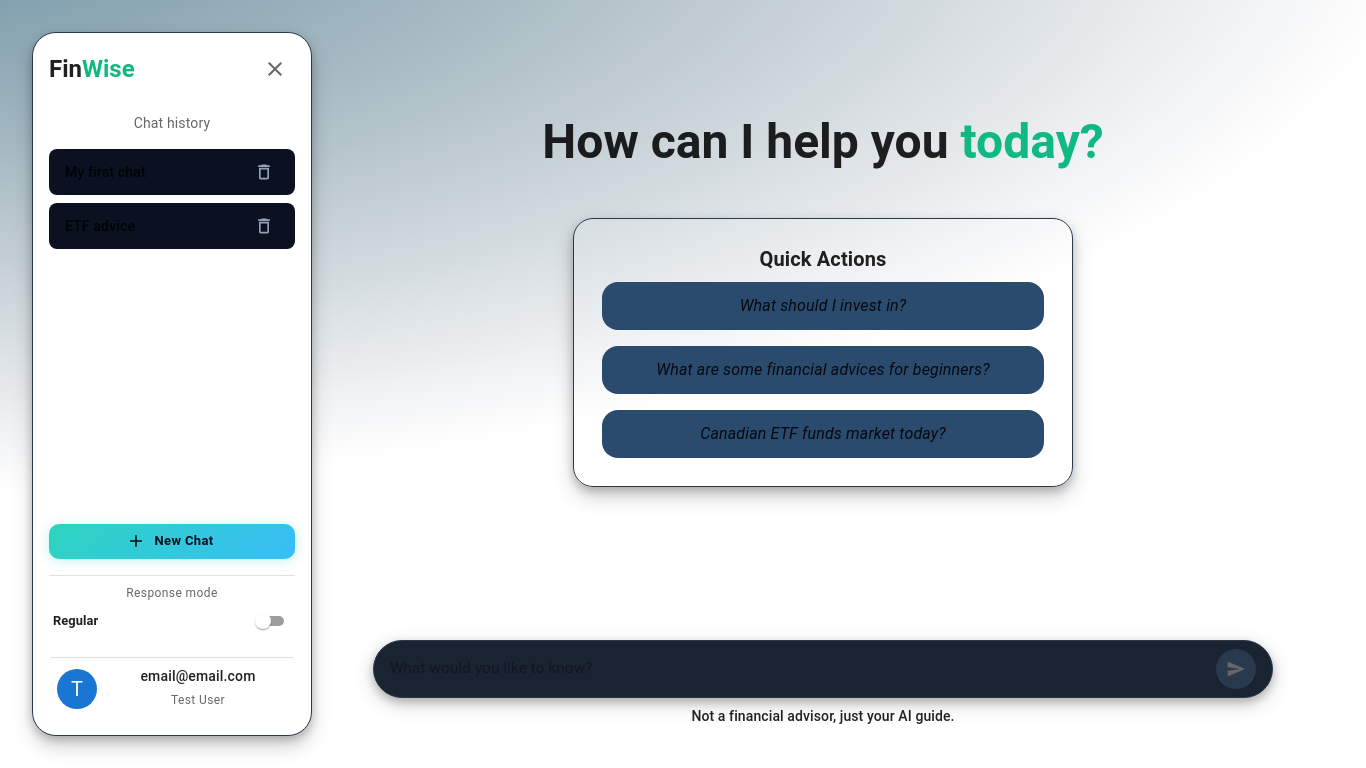
Scenario: Chat Flow Integration › deletes a chat session from the sidebar and removes it from history
Expected: the text "ETF advice" is shown, [65,218,135,234]
Click the button named "delete session etf advice" at (264, 226), box [249,211,279,241]
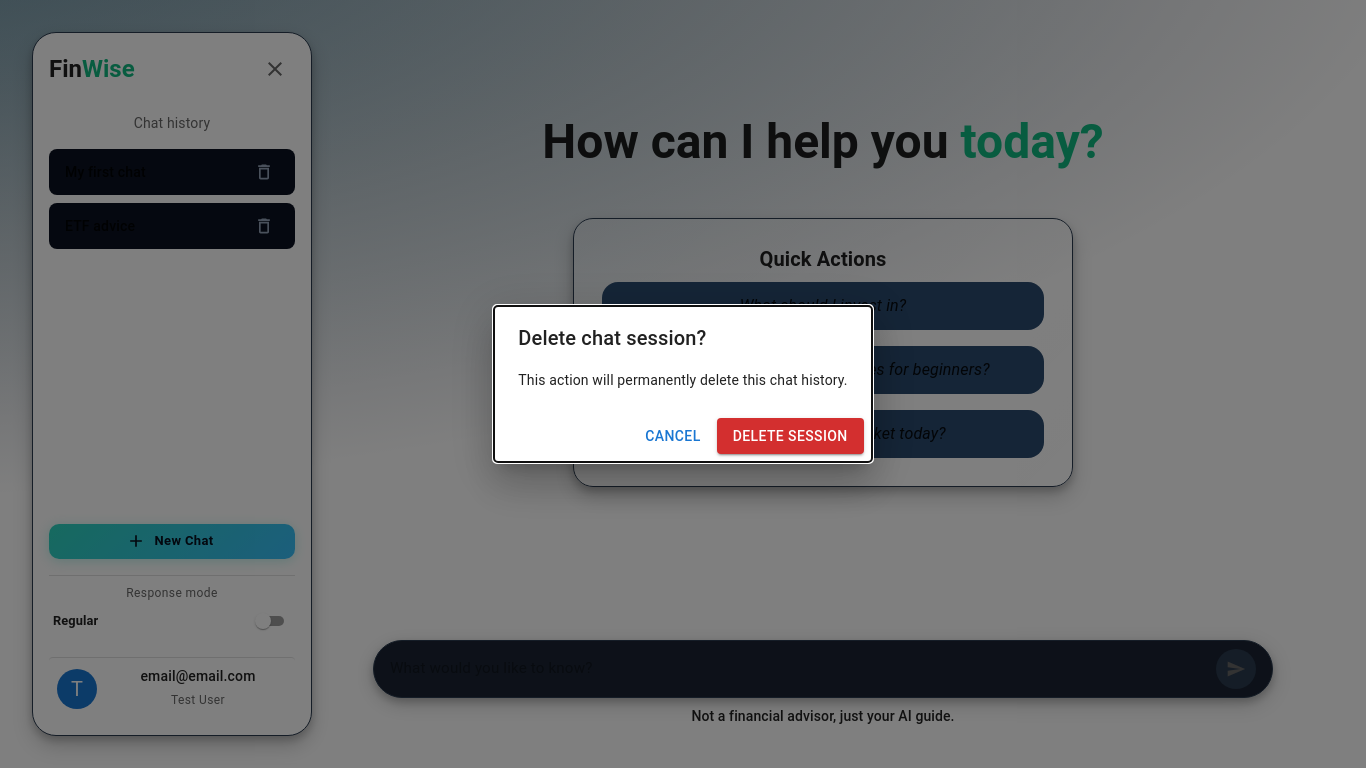
Expected: the heading "Delete chat session?" is shown, [518,326,706,350]
Click the button "Delete Session" at (790, 436), box [717,418,864,454]
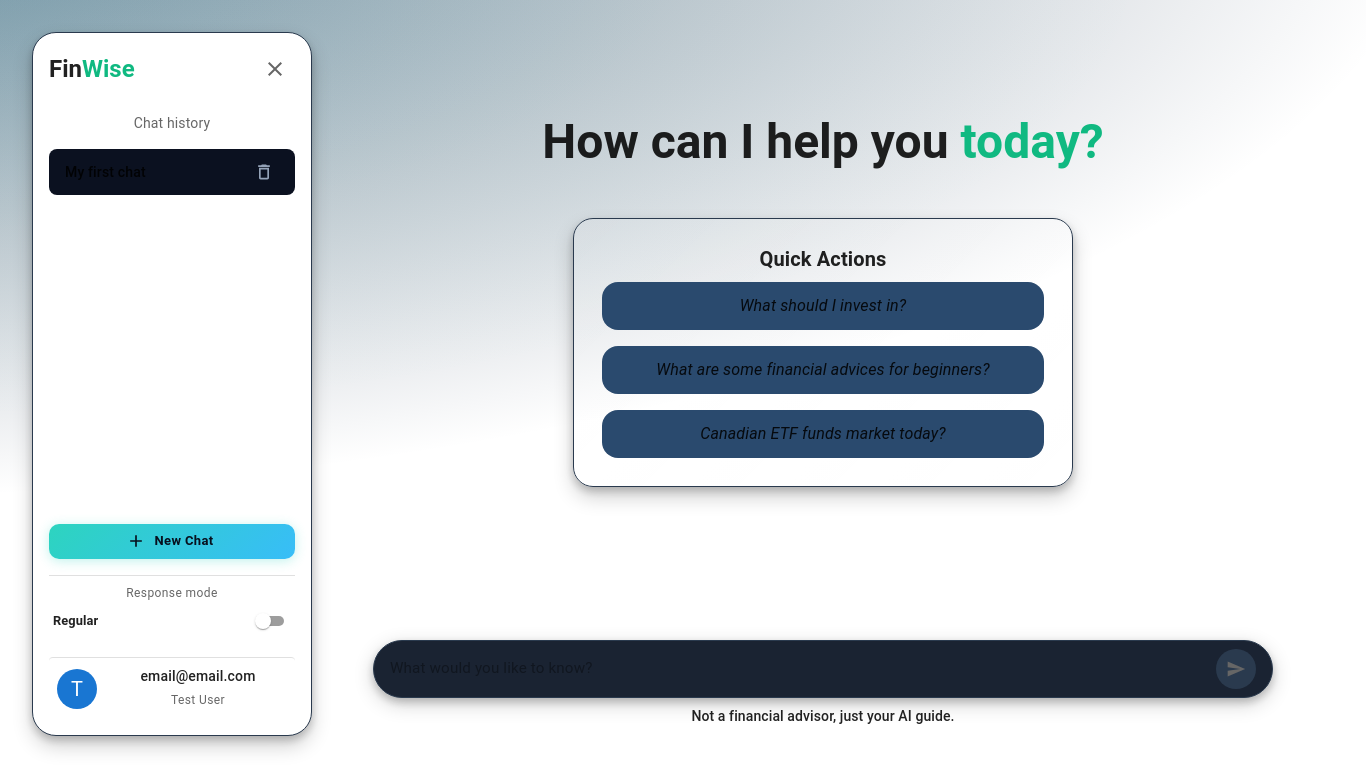
Expected: the text "ETF advice" is gone
